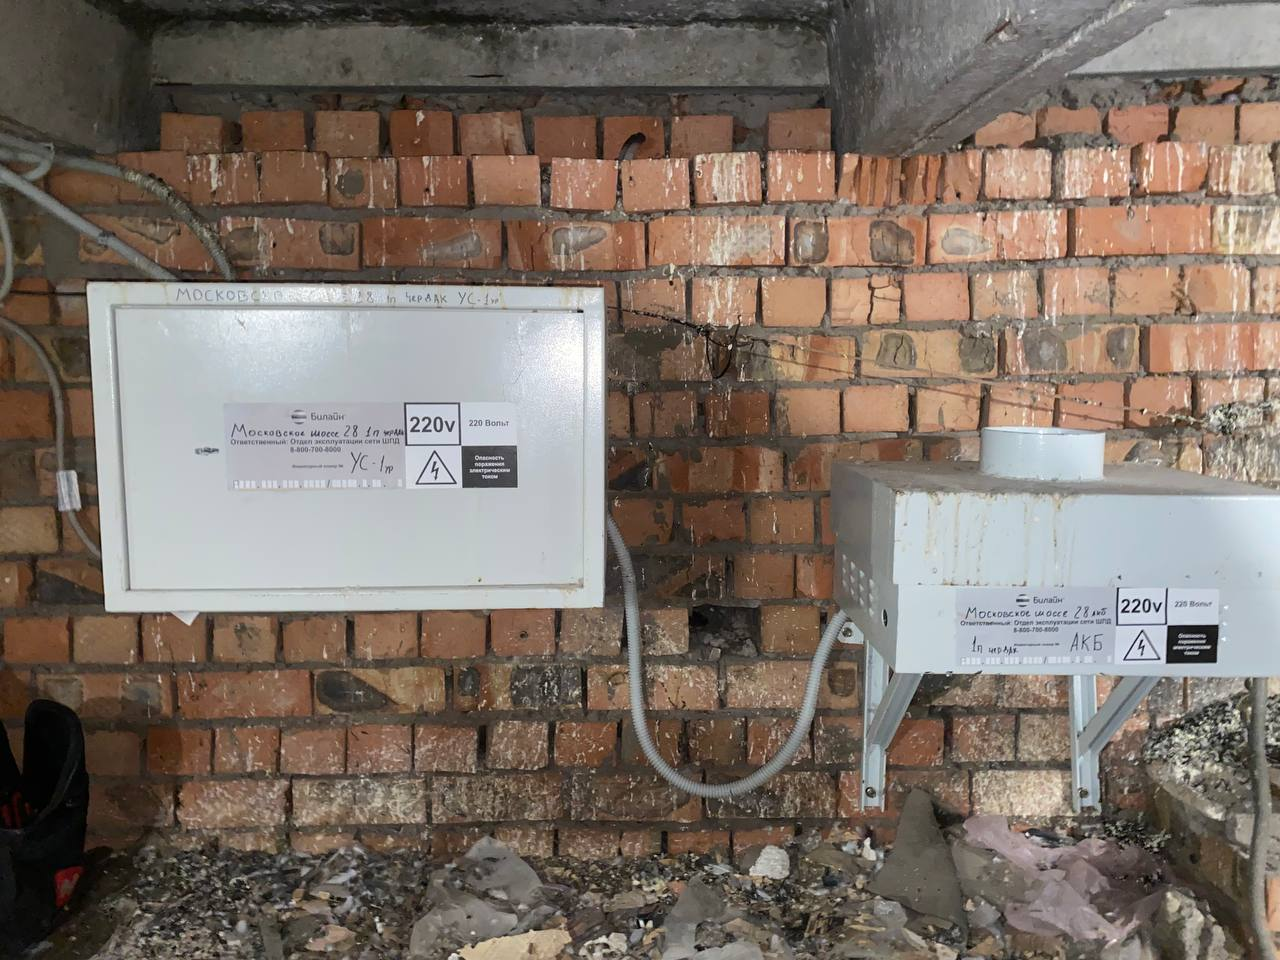shta-7m: (79, 275, 611, 618)
shta-ps: (822, 419, 1278, 679)
